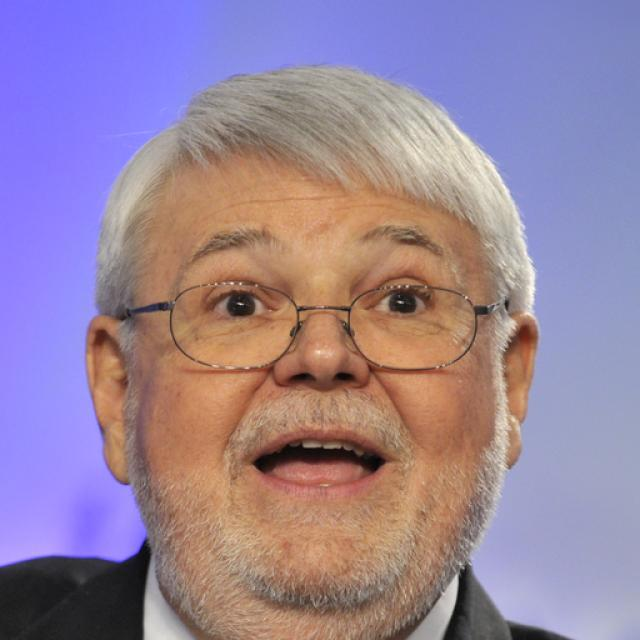surprise: (132, 150, 508, 632)
